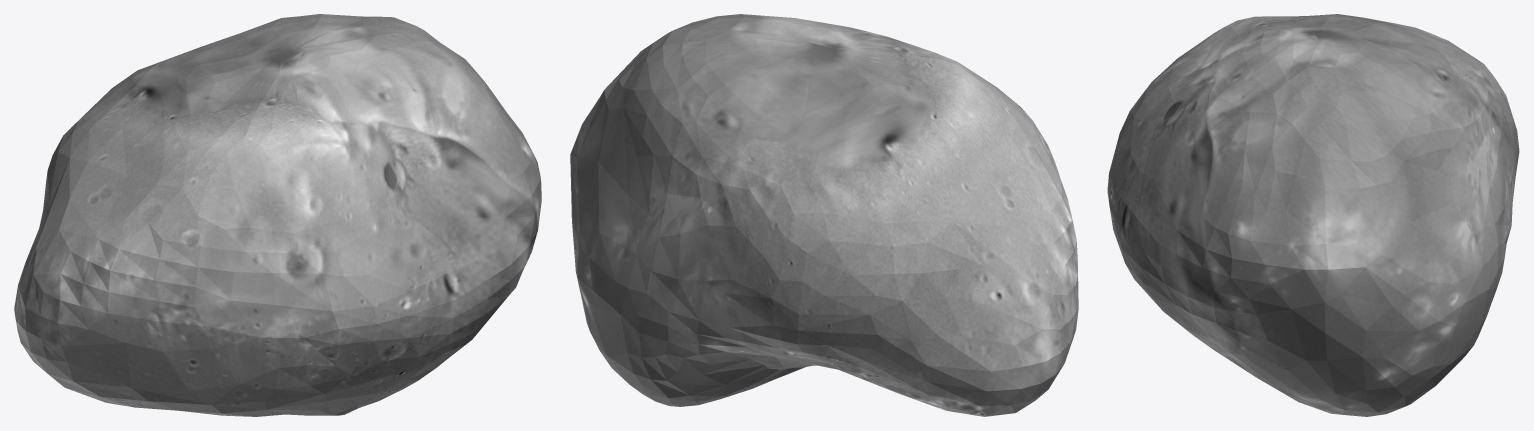
File: Deimos.fbx
The picture shows the model from 3 angles, left to right: view 1: azimuth 30°, elevation 25°; view 2: azimuth 150°, elevation 25°; view 3: azimuth 270°, elevation 25°; orthographic projection. The views are drawn at different scales.
Parts seen in each view (by area): view 1: deimos:Part_; view 2: deimos:Part_; view 3: deimos:Part_.
Part boxes in pixels (x1,y1,x2,y2): deimos:Part_: (14, 14, 541, 416); deimos:Part_: (570, 14, 1078, 416); deimos:Part_: (1107, 14, 1519, 416).
Size of the model in its own units: 159 by 111 by 126.
Materials: 1 (1 with a texture image).
